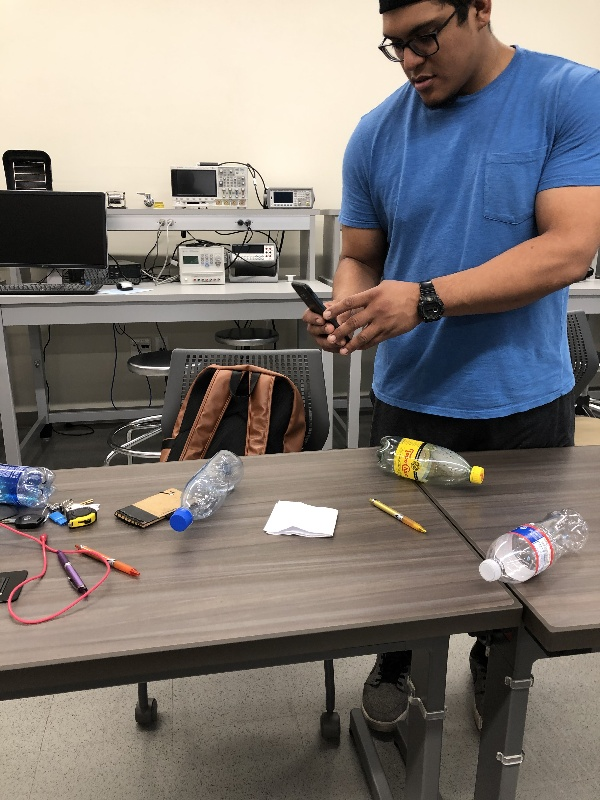bottle: (475, 505, 591, 589), (370, 430, 491, 492), (167, 447, 248, 534), (1, 457, 59, 513)
